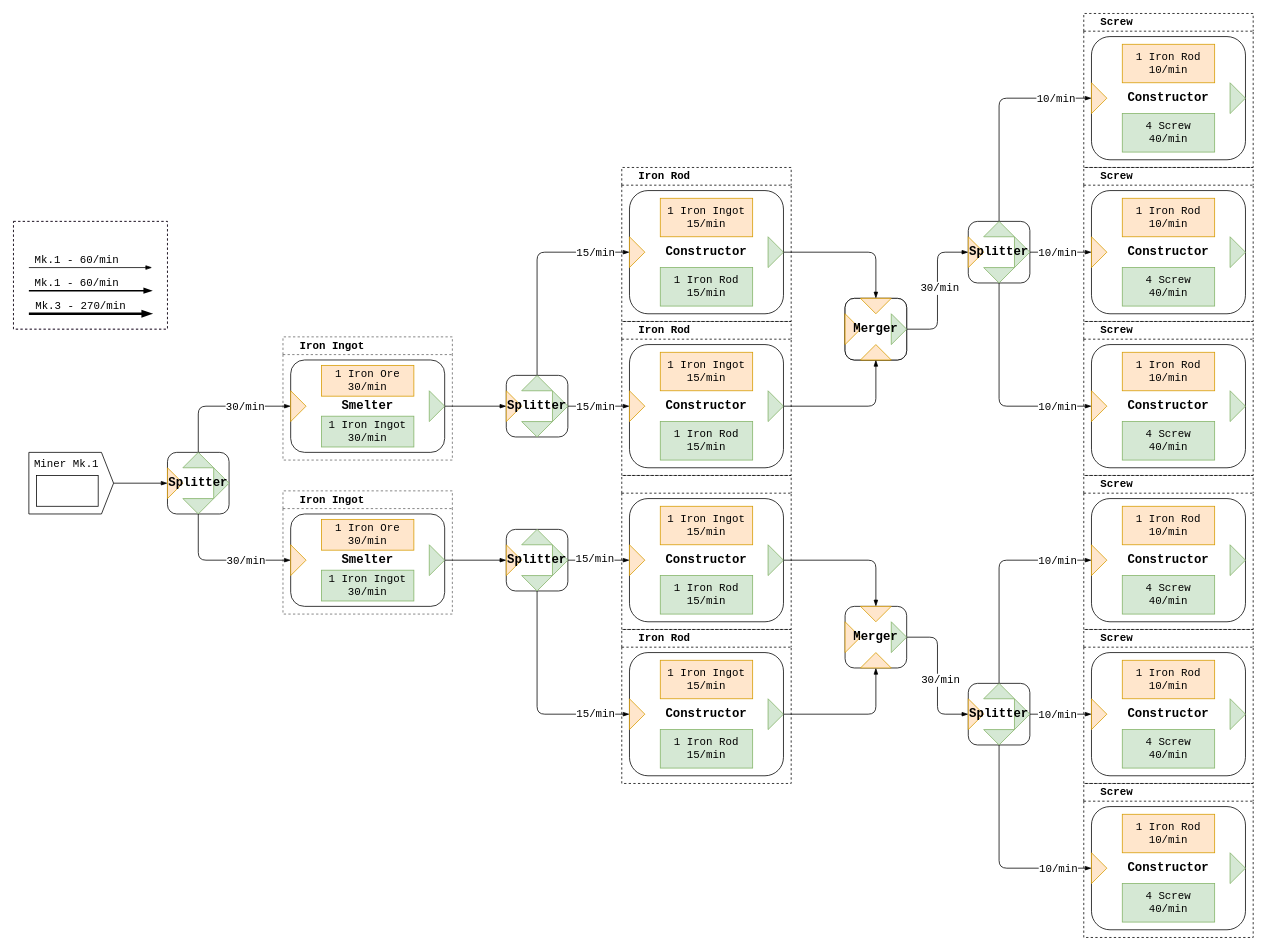
Some shapes in this 1267 by 951 pixel diagram are drawn without their labels. The centre of each missing label's shape, as x and y in pixels:
"Clk. 100% 60/min" belongs at point 67,490.
"Conveyor Belts" belongs at point 90,275.
